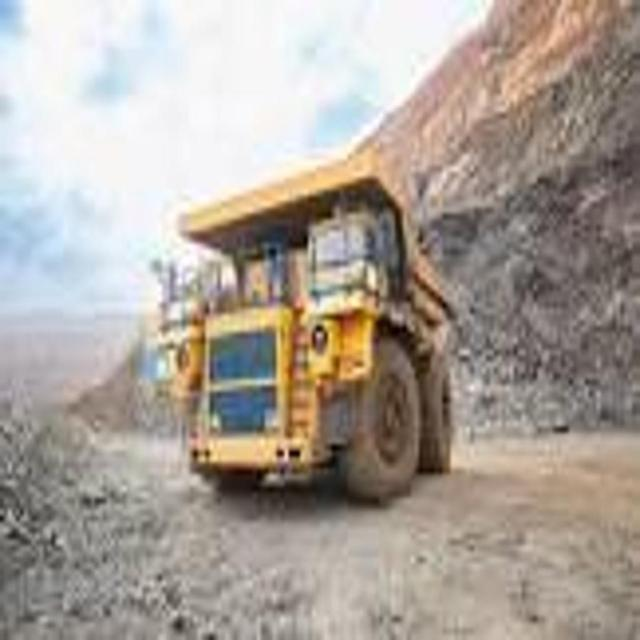dump_truck: (142, 145, 475, 510)
